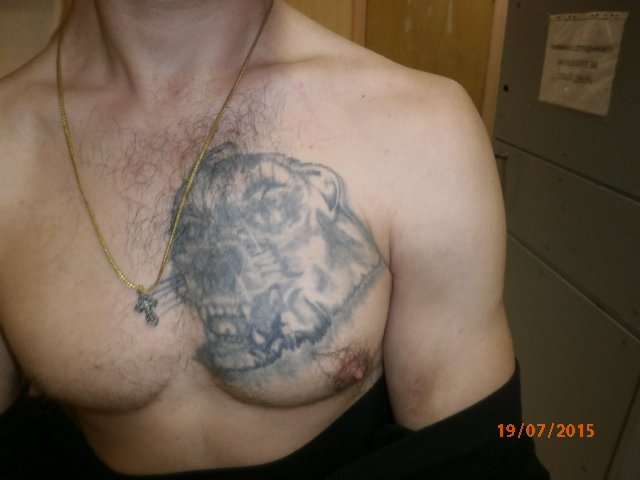tatu5_tigr: (147, 133, 395, 382)
